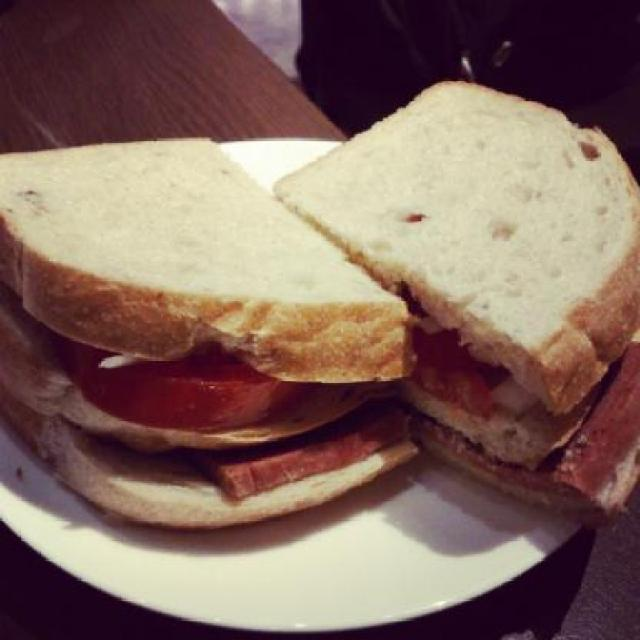Sandwich: (271, 79, 640, 539), (0, 131, 417, 529)
